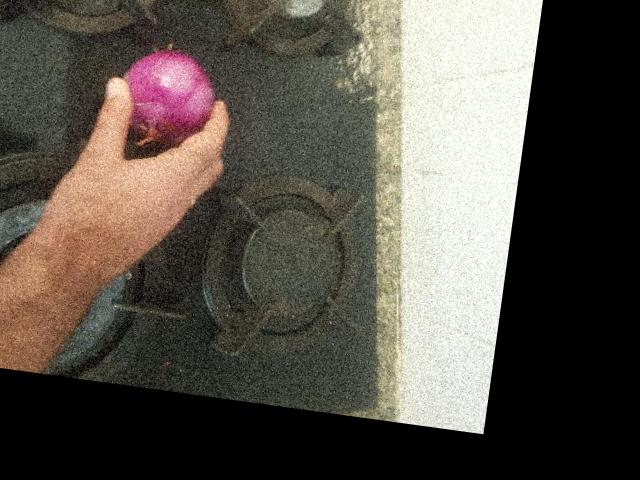onion: (296, 13, 377, 95)
